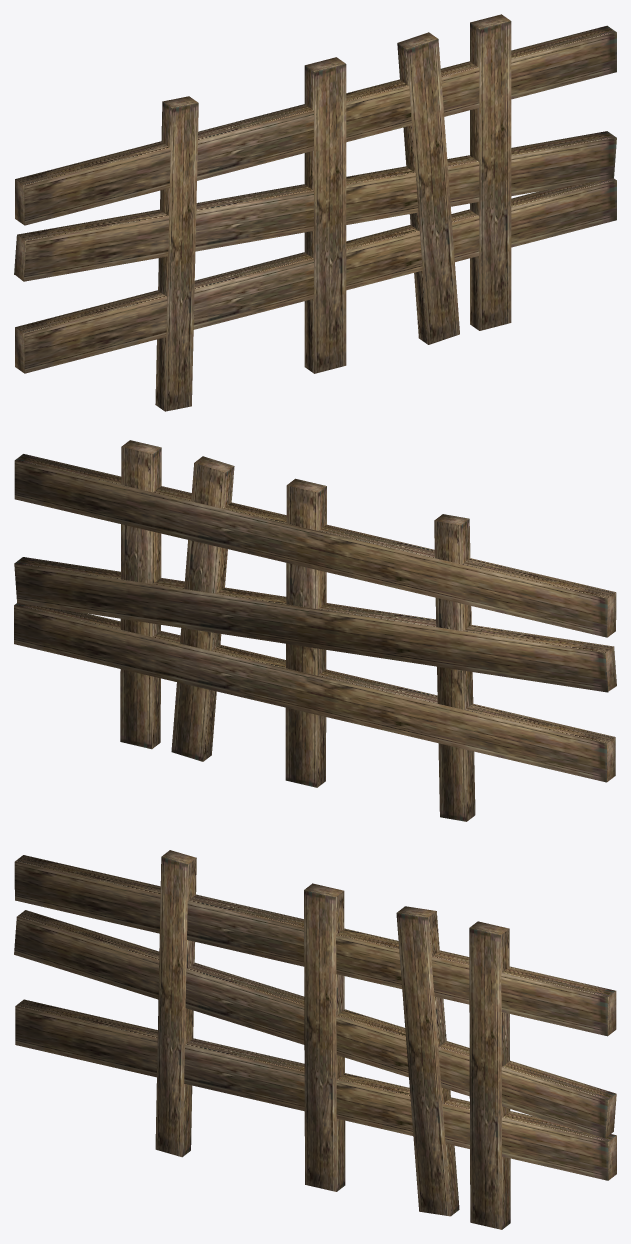
Rendered from S_Build_West073.FBX.
3 renders of one model, top to bottom at view 1: azimuth 30°, elevation 25°; view 2: azimuth 150°, elevation 25°; view 3: azimuth 330°, elevation 25°, orthographic. The views are drawn at different scales.
Parts seen in each view (by area): view 1: S_Build_West073; view 2: S_Build_West073; view 3: S_Build_West073.
Boxes of the visible parts, <box> form: S_Build_West073: <box>14,14,616,411</box>; S_Build_West073: <box>14,440,616,821</box>; S_Build_West073: <box>14,850,616,1229</box>.
Bounding box in the file's own units: 435 × 21.95 × 211.
